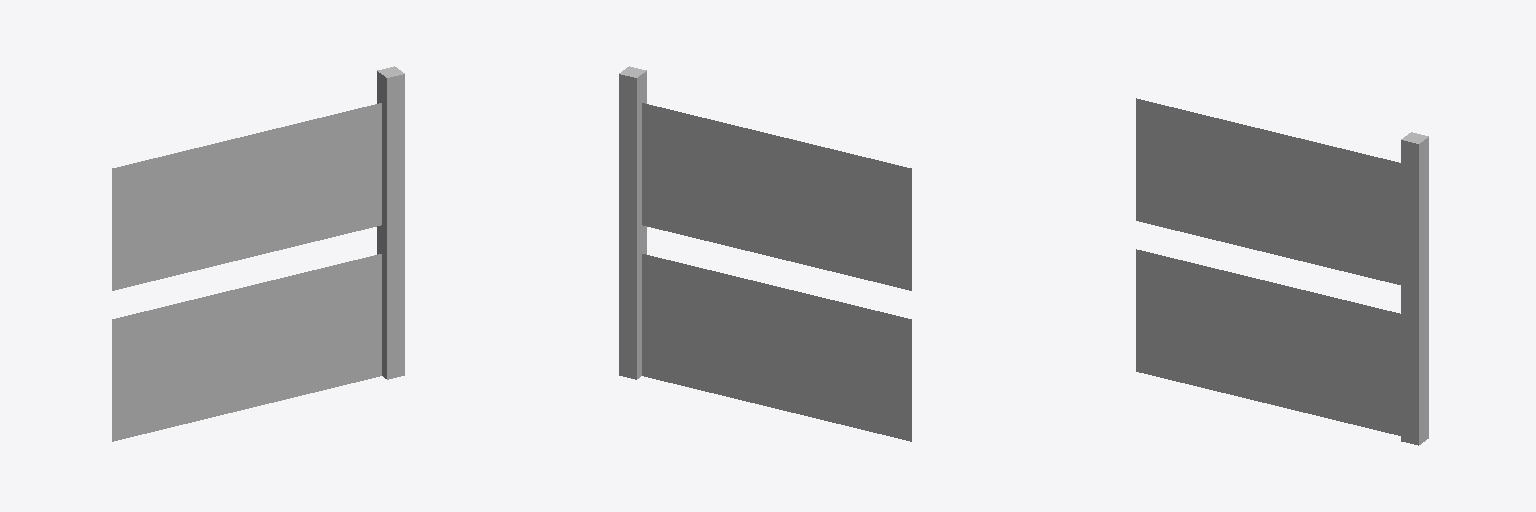
Rendered from cerca_arame.obj.
The picture shows the model from 3 angles: view 1: azimuth 30°, elevation 25°; view 2: azimuth 150°, elevation 25°; view 3: azimuth 330°, elevation 25°; orthographic projection.
Parts seen in each view (by area): view 1: arame, Block; view 2: arame, Block; view 3: arame, Block.
Part boxes in pixels (x1,y1,x2,y2): arame: (112,103,381,441); Block: (377,66,404,379); arame: (642,103,911,441); Block: (619,66,646,379); arame: (1136,98,1400,435); Block: (1401,132,1428,445).
Bounding box in the file's own units: 2 × 2 × 0.125.